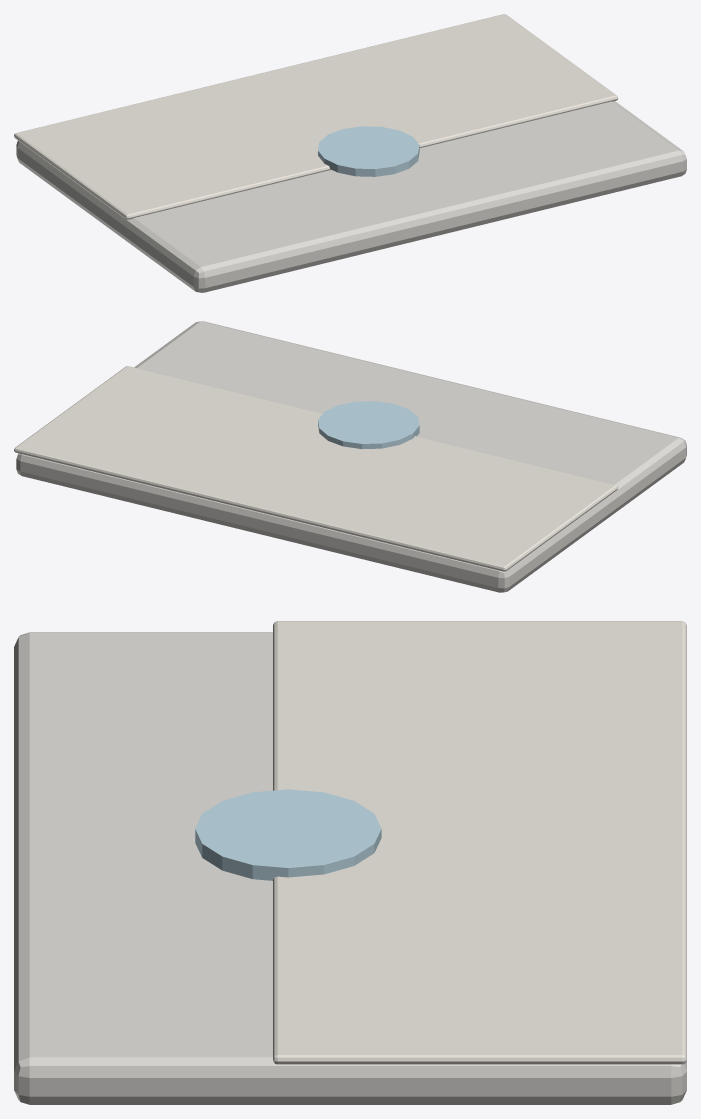
Rendered from envelope.glb.
The picture shows the model from 3 angles, top to bottom: view 1: azimuth 30°, elevation 25°; view 2: azimuth 150°, elevation 25°; view 3: azimuth 270°, elevation 25°; orthographic projection. The views are drawn at different scales.
Visible parts, largest first — view 1: Envelope; view 2: Envelope; view 3: Envelope.
Part boxes in pixels (<box>): Envelope: <box>14,14,686,292</box>; Envelope: <box>14,321,686,592</box>; Envelope: <box>14,621,686,1104</box>.
Bounding box in the file's own units: 0.2 × 0.0135 × 0.13.
